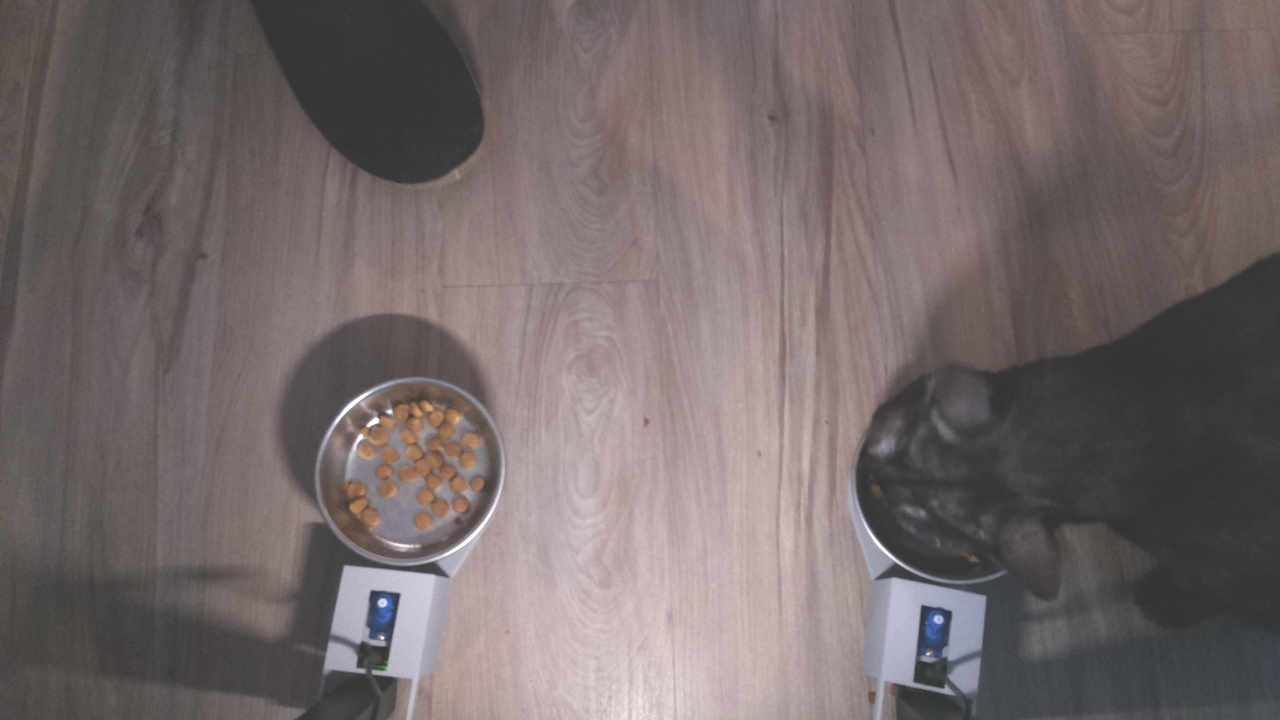open_bowl: (312, 376, 507, 571)
saki_eating: (847, 353, 1130, 589)
